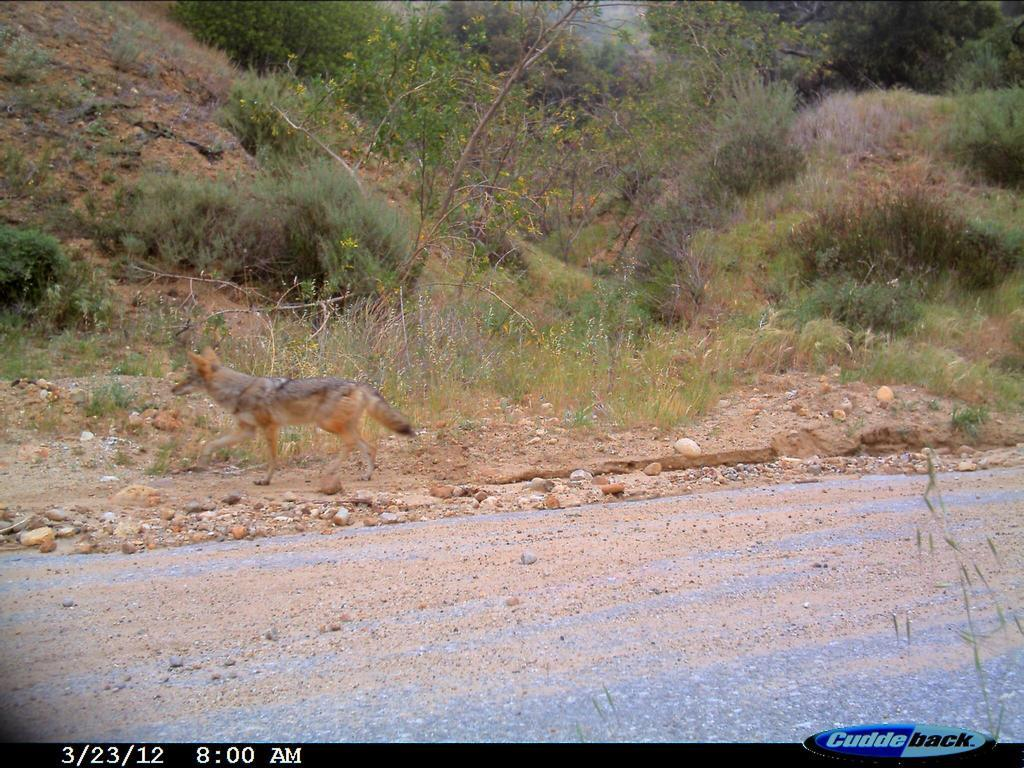coyote: (164, 326, 434, 489)
